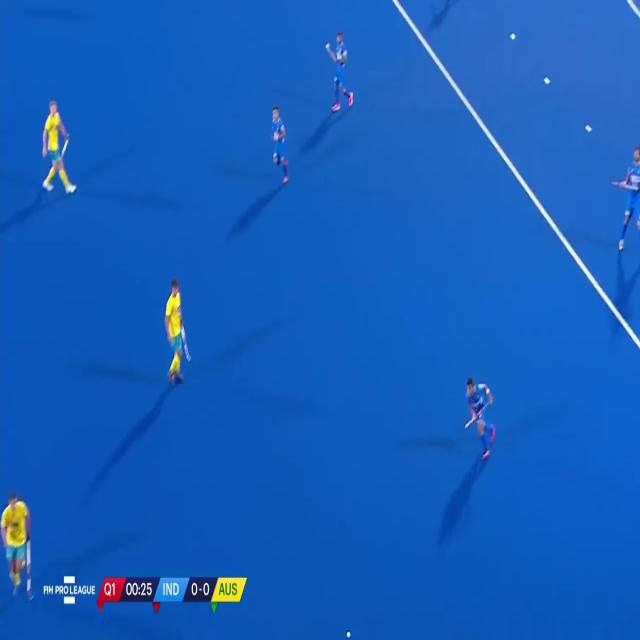ball: (342, 621, 354, 640)
